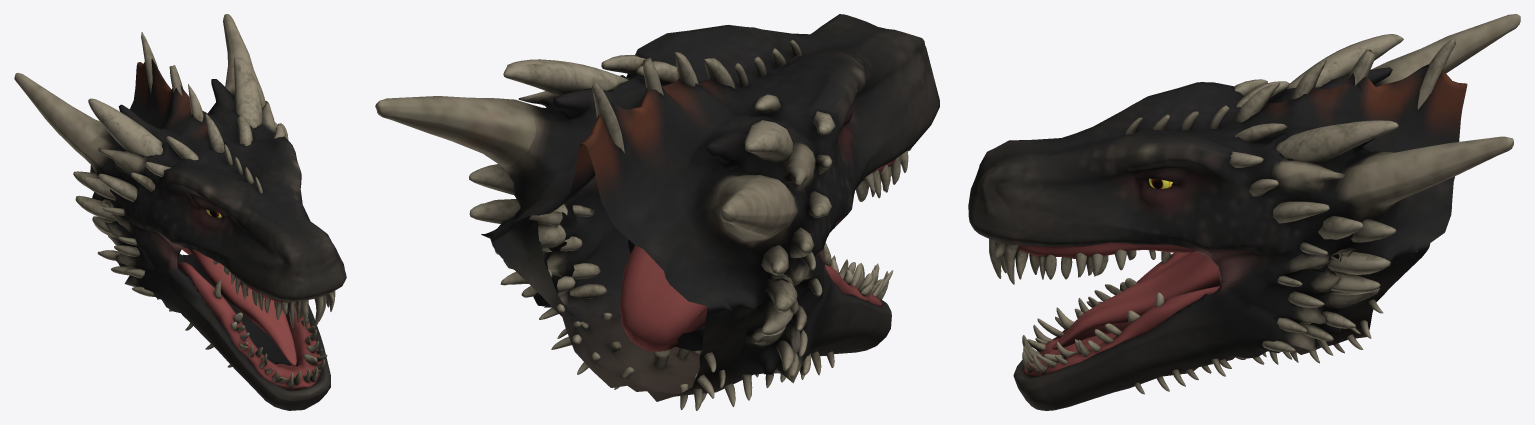
The model's file is dragon_000013.obj.
The picture shows the model from 3 angles, left to right: view 1: azimuth 30°, elevation 25°; view 2: azimuth 150°, elevation 25°; view 3: azimuth 270°, elevation 25°; orthographic projection. The views are drawn at different scales.
Visible parts, largest first — view 1: Dragon_Untitled; view 2: Dragon_Untitled; view 3: Dragon_Untitled.
Boxes of the visible parts, x1,y1,x2,y2 form: Dragon_Untitled: (14,14,346,410); Dragon_Untitled: (375,14,939,410); Dragon_Untitled: (968,14,1520,410).
Bounding box in the file's own units: 2.72 × 3.26 × 4.45.
